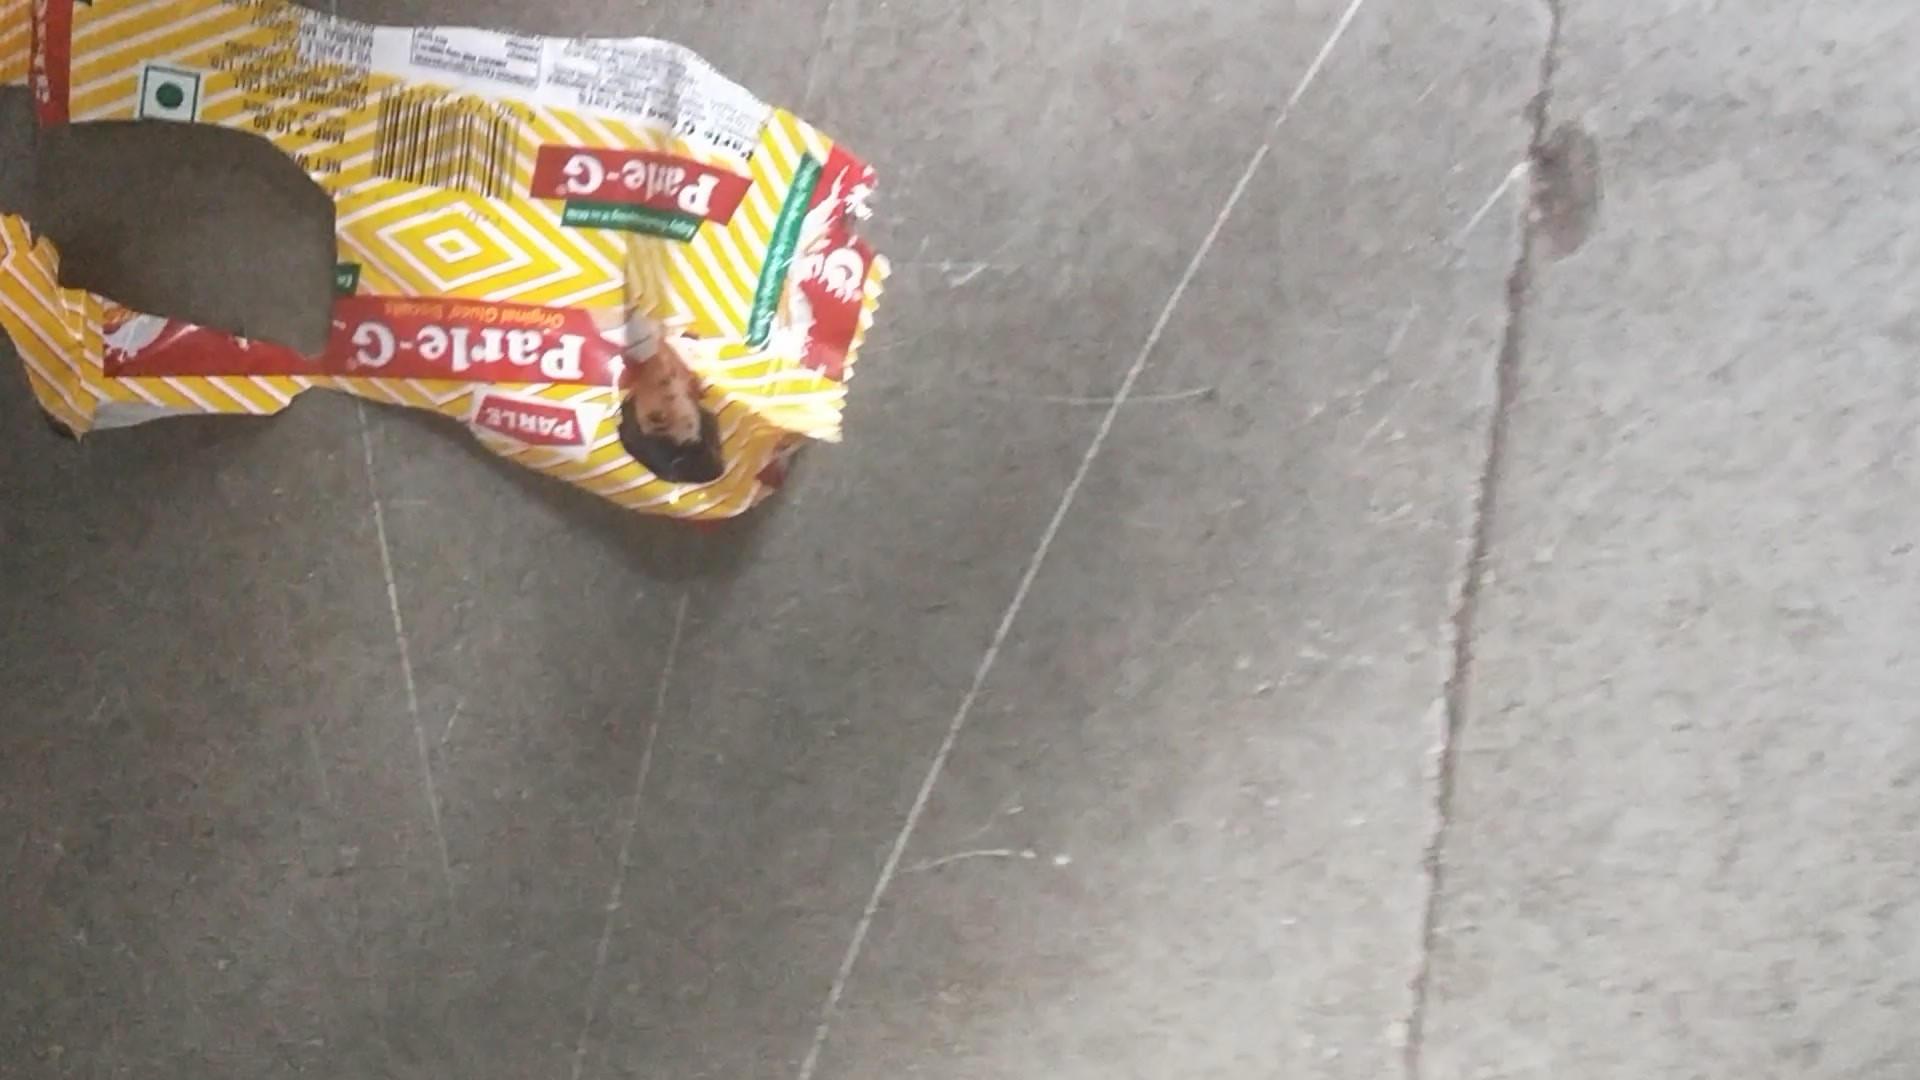parle-g-b: (1, 11, 820, 479)
